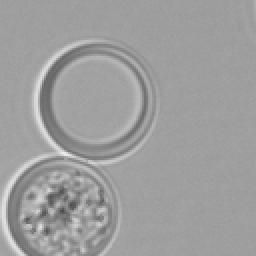picoshell: (32, 40, 156, 164), (2, 154, 116, 254)
